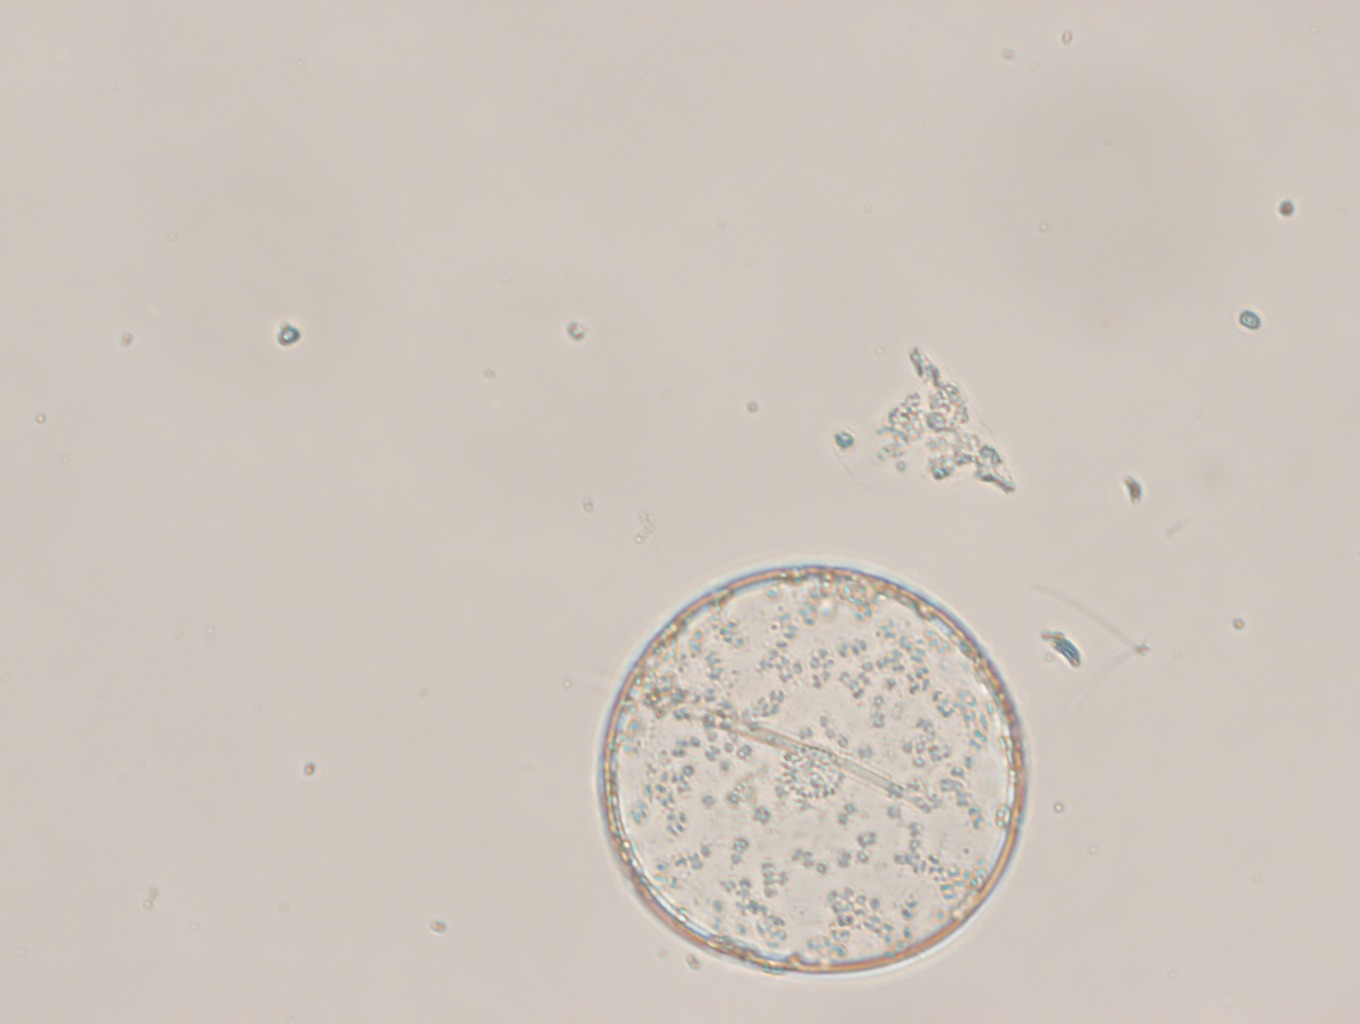coscinodiscus: (587, 555, 1034, 983)
